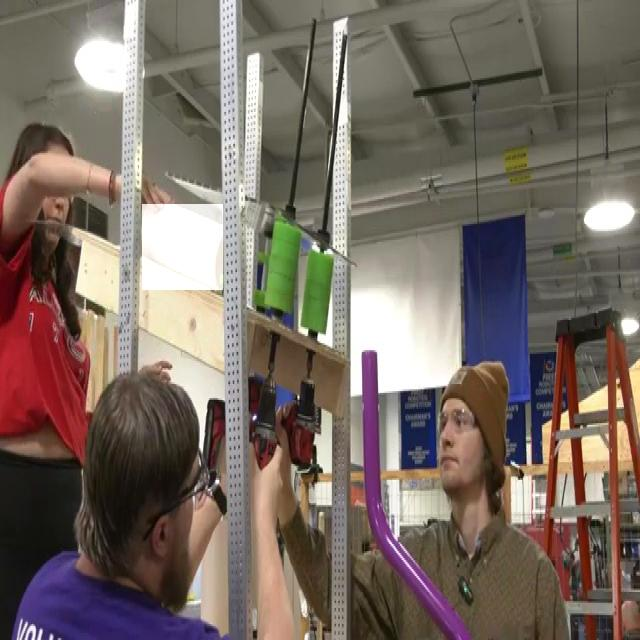Coral: (142, 204, 223, 290)
